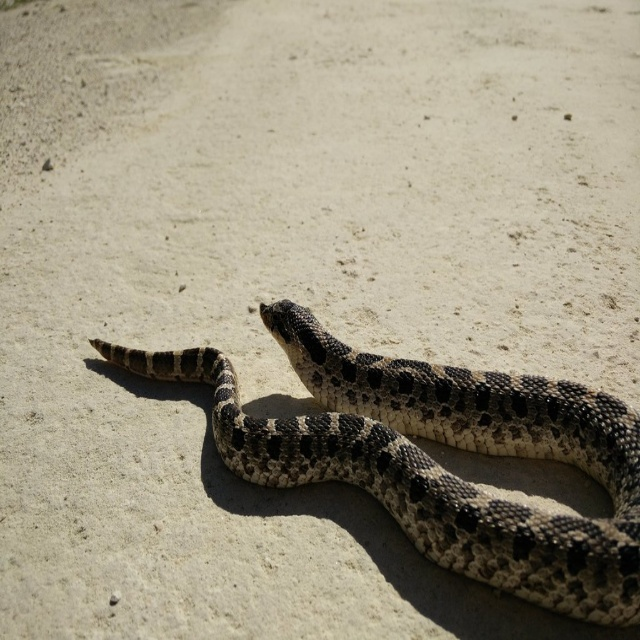Snake: (87, 296, 640, 623)
